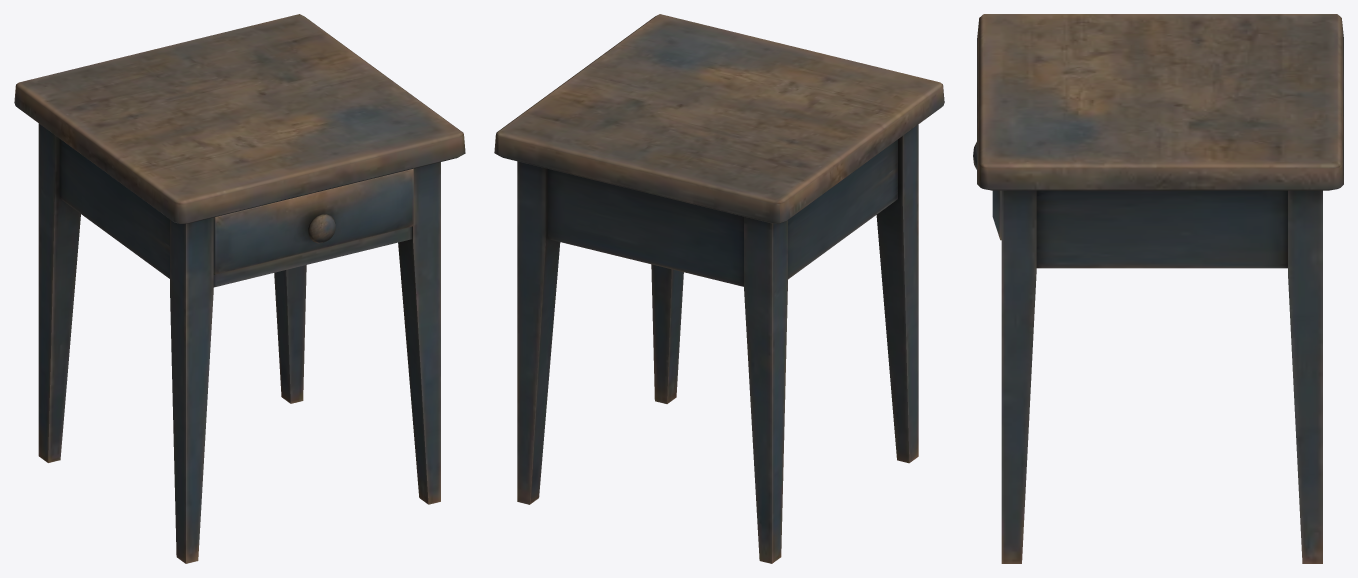
The model's file is painted_wooden_nightstand.glb.
3 renders of one model, left to right at view 1: azimuth 30°, elevation 25°; view 2: azimuth 150°, elevation 25°; view 3: azimuth 270°, elevation 25°, orthographic. The views are drawn at different scales.
Parts seen in each view (by area): view 1: painted_wooden_nightstand; view 2: painted_wooden_nightstand; view 3: painted_wooden_nightstand.
Boxes of the visible parts, left/top/right/bottom form: painted_wooden_nightstand: left=14, top=14, right=465, bottom=563; painted_wooden_nightstand: left=494, top=14, right=944, bottom=563; painted_wooden_nightstand: left=973, top=14, right=1343, bottom=563.
Bounding box in the file's own units: 0.5045 × 0.6155 × 0.5087.
1 material, 1 textured.
